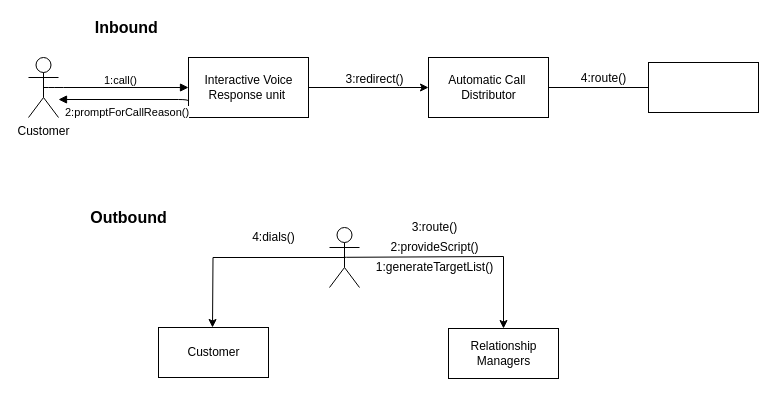
The diagram is 776 pixels wide and 396 high, and some of its shapes have lost their labels. Here are the shapes that lost their labels. From the top down, the centre of each, then its label:
the point at 703,87: Relationship Manager
the point at 344,257: Call Management Center
